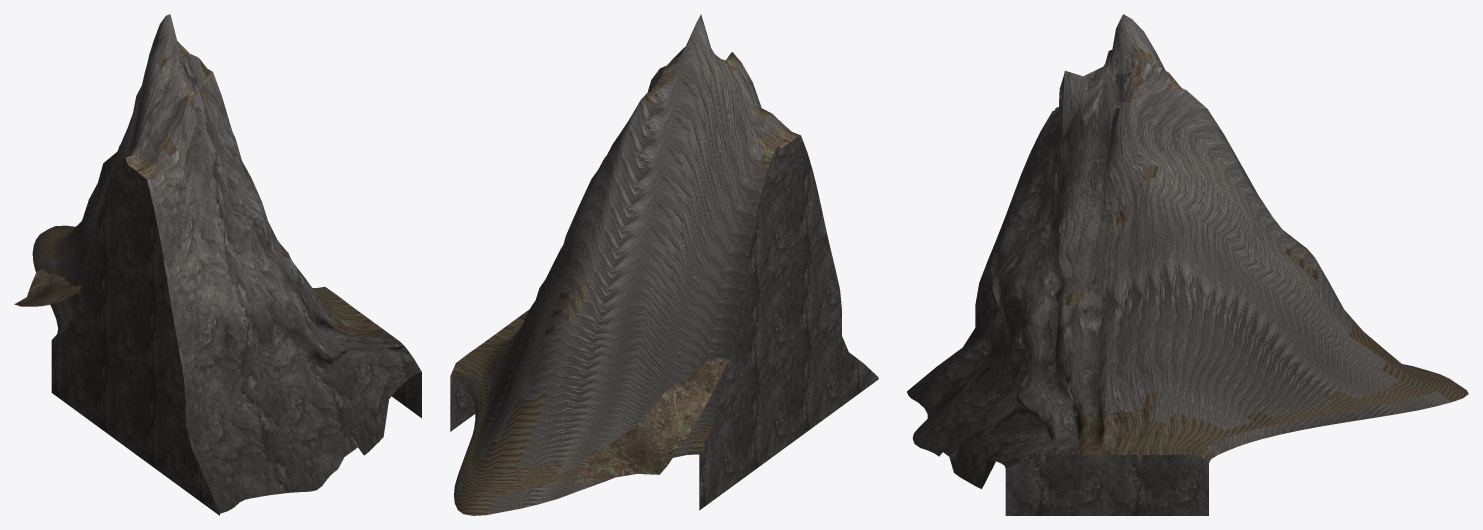
Rendered from seacliff_endcap_right_h5_b_v5_autumn.glb.
3 views of the same model, side by side, from view 1: azimuth 30°, elevation 25°; view 2: azimuth 150°, elevation 25°; view 3: azimuth 270°, elevation 25° (orthographic). The views are drawn at different scales.
Visible parts, largest first — view 1: seacliff_endcap_right_h5_b; view 2: seacliff_endcap_right_h5_b; view 3: seacliff_endcap_right_h5_b.
Boxes of the visible parts, left/top/right/bottom form: seacliff_endcap_right_h5_b: left=14, top=14, right=421, bottom=515; seacliff_endcap_right_h5_b: left=450, top=14, right=878, bottom=515; seacliff_endcap_right_h5_b: left=907, top=14, right=1468, bottom=515.
Size of the model in its own units: 6 by 9.36 by 11.63.
Materials: 2 (2 with a texture image).
